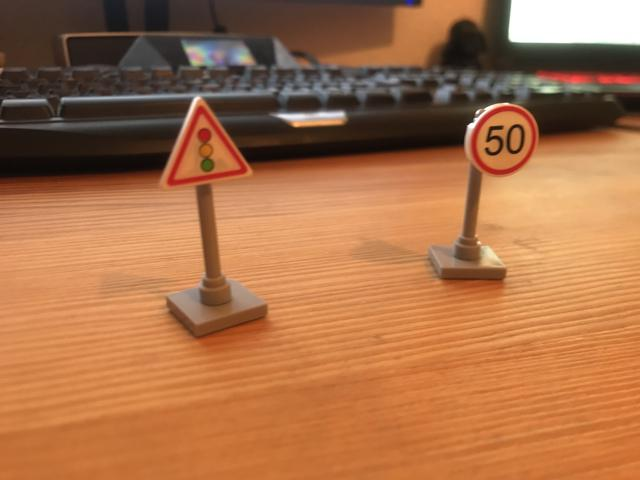lichtzeichenanlage: (161, 97, 256, 191)
tempolimit 50: (468, 103, 542, 177)
